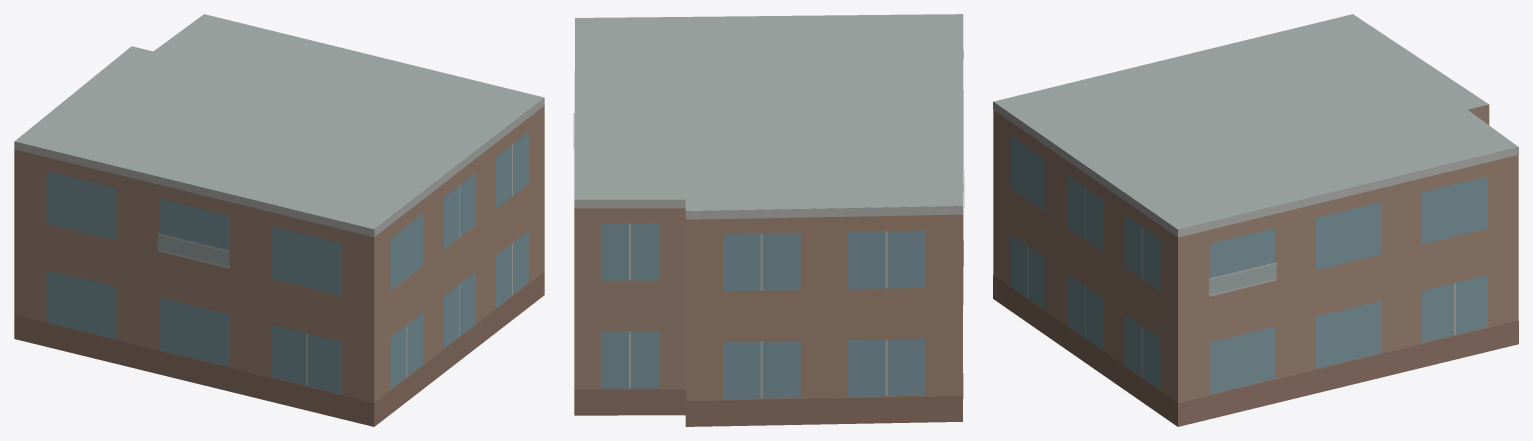
The model's file is survey-upis-32475377.glb.
3 views of the same model, side by side, from view 1: azimuth 30°, elevation 25°; view 2: azimuth 150°, elevation 25°; view 3: azimuth 270°, elevation 25° (orthographic). The views are drawn at different scales.
Parts seen in each view (by area): view 1: survey-upis-32475377.tmp; view 2: survey-upis-32475377.tmp; view 3: survey-upis-32475377.tmp.
Part boxes in pixels (x1,y1,x2,y2): survey-upis-32475377.tmp: (14, 14, 544, 426); survey-upis-32475377.tmp: (573, 14, 964, 426); survey-upis-32475377.tmp: (993, 14, 1518, 426).
Bounding box in the file's own units: 14.32 × 6.1 × 14.74.
